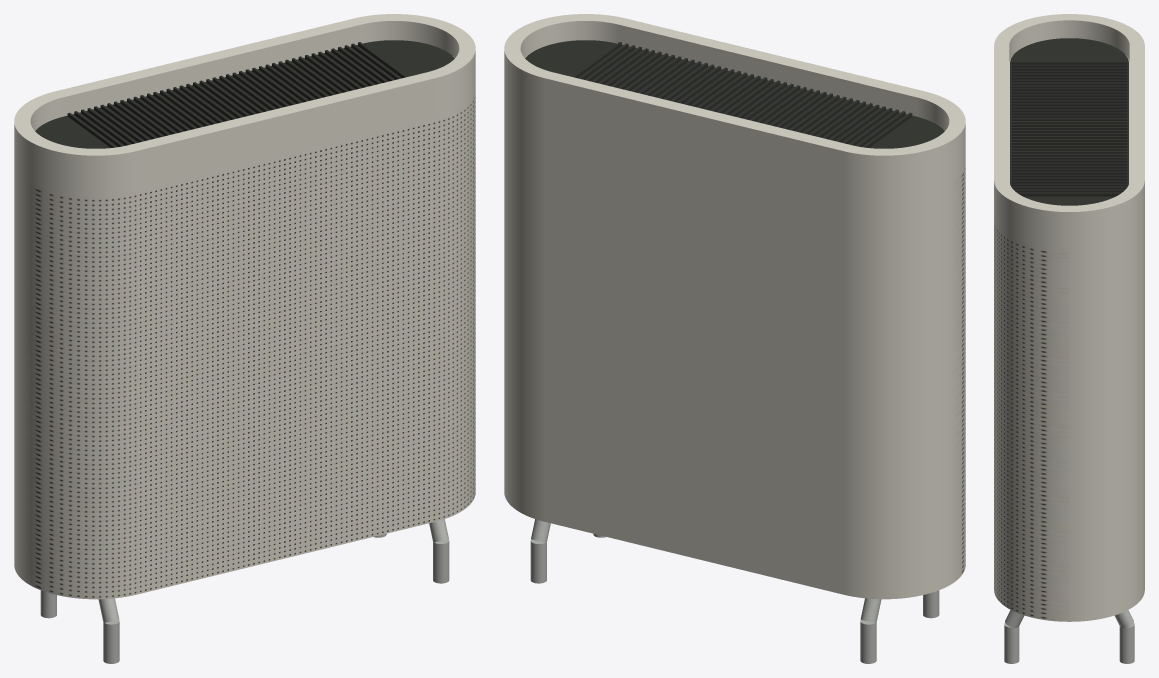
Rendered from WallFit-LS-b32-bdeb23.glb.
3 views of the same model, side by side, from view 1: azimuth 30°, elevation 25°; view 2: azimuth 150°, elevation 25°; view 3: azimuth 270°, elevation 25° (orthographic). The views are drawn at different scales.
Parts seen in each view (by area): view 1: FrontCoverEstimate, ControlStripEstimate, OutletFloorEstimate, FootContactEstimate_210_1; view 2: ControlStripEstimate, OutletFloorEstimate, FrontCoverEstimate, FootContactEstimate_210_1; view 3: ControlStripEstimate, FrontCoverEstimate, OutletFloorEstimate, FootContactEstimate_210_1.
Boxes of the visible parts, x1,y1,x2,y2 form: FrontCoverEstimate: [25, 92, 475, 598]; ControlStripEstimate: [14, 14, 475, 599]; OutletFloorEstimate: [35, 40, 454, 148]; FootContactEstimate_210_1: [40, 519, 449, 663]; ControlStripEstimate: [504, 14, 965, 599]; OutletFloorEstimate: [525, 40, 944, 148]; FrontCoverEstimate: [954, 165, 965, 580]; FootContactEstimate_210_1: [530, 519, 939, 663]; ControlStripEstimate: [994, 14, 1144, 621]; FrontCoverEstimate: [994, 219, 1069, 620]; OutletFloorEstimate: [1010, 38, 1128, 205]; FootContactEstimate_210_1: [1004, 610, 1134, 663].
Bounding box in the file's own units: 0.56 × 0.624 × 0.18.
Materials: 5 (1 with a texture image).
